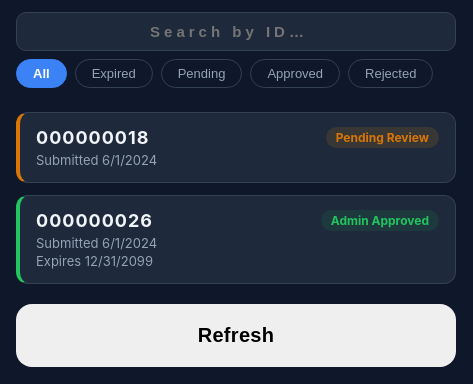
Test case: MySubmissions — search › filters cards by ID as user types
This screenshot has width=473, height=384.
expect the text "000000018" is shown: met, box [36, 127, 150, 148]
Type "26" into the search field with placeholder "Search by ID…" at (236, 32), box [16, 12, 456, 51]
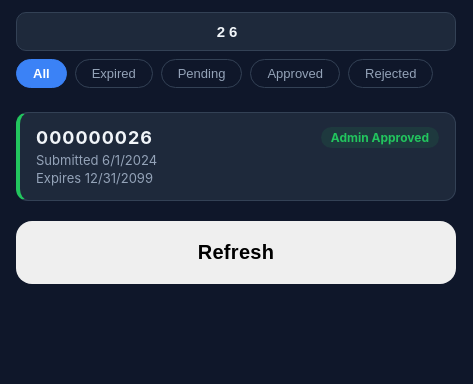
expect the text "000000026" is shown: met, box [36, 127, 153, 148]
expect the text "000000018" is gone: met
